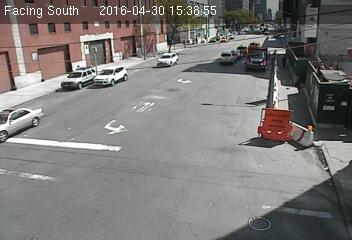neg: (170, 49, 193, 79), (234, 49, 242, 58)
pos: (277, 50, 291, 69)
